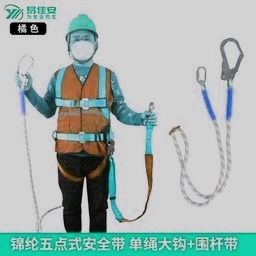safety belt: (55, 66, 119, 183)
